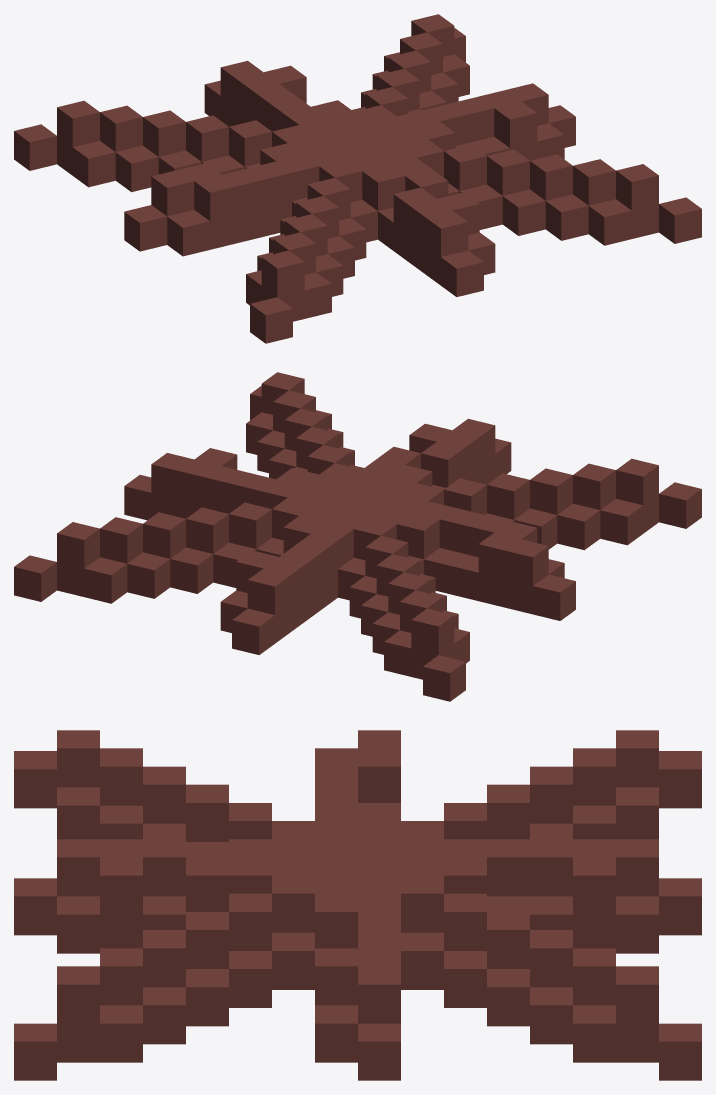
Rendered from campfire.obj.
3 renders of one model, top to bottom at view 1: azimuth 30°, elevation 25°; view 2: azimuth 150°, elevation 25°; view 3: azimuth 270°, elevation 25°, orthographic. The views are drawn at different scales.
Visible parts, largest first — view 1: campfire; view 2: campfire; view 3: campfire.
Boxes of the visible parts, x1=… form: campfire: x1=14, y1=14, x2=701, y2=343; campfire: x1=14, y1=372, x2=701, y2=701; campfire: x1=14, y1=730, x2=701, y2=1080.
Size of the model in its own units: 16 by 2 by 16.
Materials: 1 (1 with a texture image).
